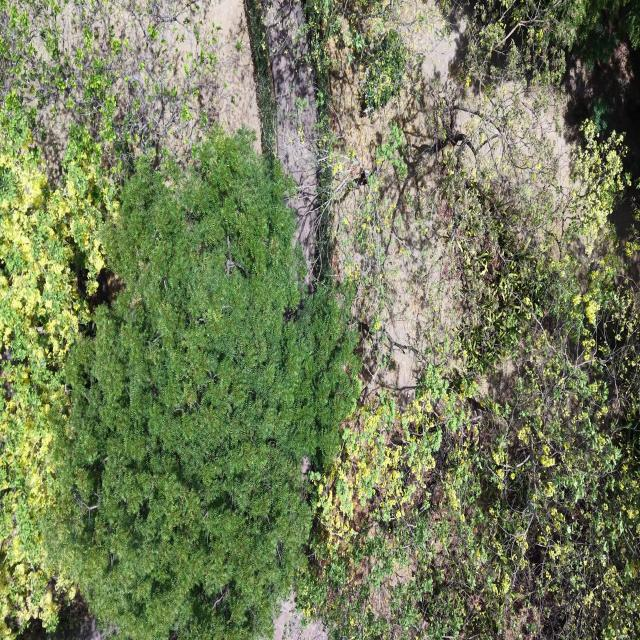DRY_AREA: (330, 0, 572, 408), (329, 0, 571, 406), (330, 0, 483, 408), (58, 0, 261, 158), (57, 0, 261, 155), (330, 0, 461, 183), (331, 0, 463, 174), (330, 0, 460, 171), (331, 0, 460, 171), (370, 176, 461, 405), (564, 41, 639, 242), (260, 0, 317, 264), (262, 0, 317, 267), (263, 0, 317, 271), (263, 0, 318, 266), (262, 0, 317, 266), (263, 0, 317, 270), (263, 0, 318, 264), (263, 0, 316, 267), (264, 0, 317, 264), (263, 0, 316, 264), (174, 0, 261, 151), (191, 0, 261, 152), (198, 0, 261, 152), (200, 0, 261, 151), (205, 0, 261, 151), (20, 592, 117, 639), (274, 592, 328, 639), (274, 593, 328, 639), (63, 597, 117, 639), (78, 617, 105, 639), (78, 618, 105, 639)
PATHWAYS: (263, 0, 317, 283)
VEGETATION_TREE: (0, 0, 639, 639), (297, 45, 639, 638), (299, 124, 639, 638), (48, 132, 357, 638), (0, 0, 219, 637), (0, 0, 216, 637), (298, 344, 639, 638), (42, 222, 210, 621), (0, 94, 112, 638), (0, 0, 217, 177), (438, 0, 639, 91), (443, 0, 639, 85), (445, 0, 590, 85), (306, 0, 410, 116), (356, 30, 407, 112), (576, 0, 639, 64)
